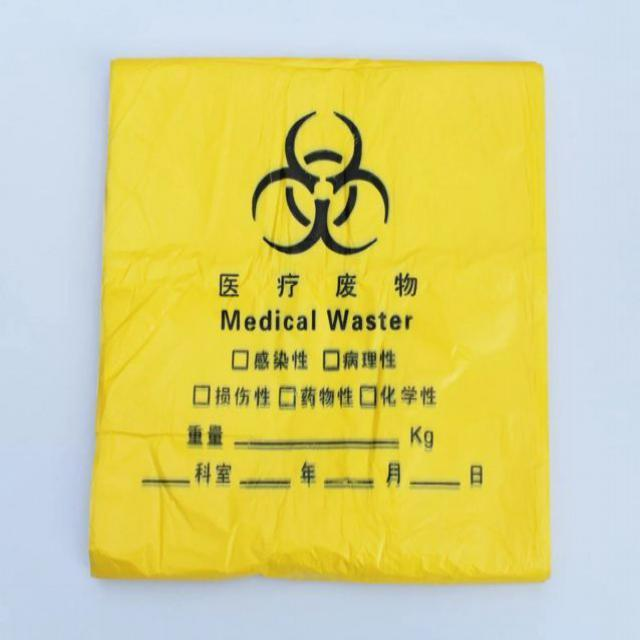waste: (96, 59, 555, 586)
